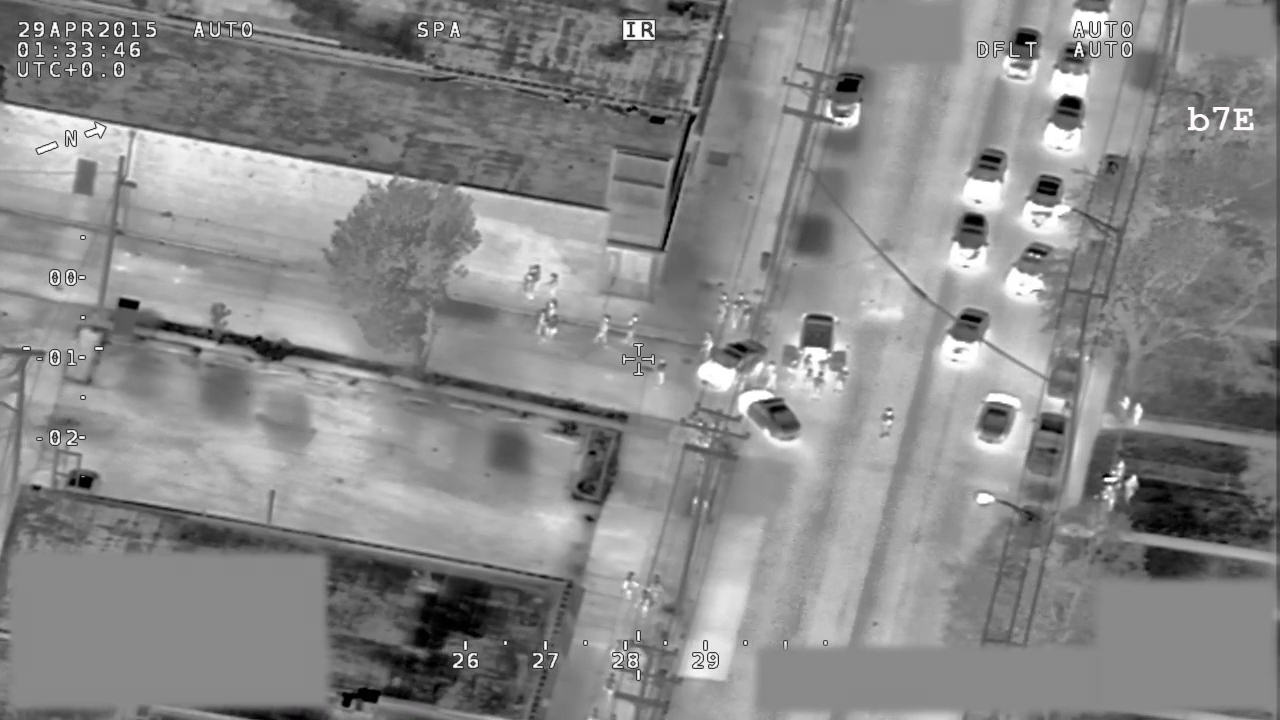vehicle: (777, 308, 852, 385), (692, 336, 771, 388), (736, 389, 804, 442), (971, 390, 1027, 452), (940, 304, 992, 369), (1004, 242, 1058, 303), (1039, 92, 1090, 155), (962, 144, 1010, 210), (1022, 173, 1068, 236), (822, 68, 866, 132), (999, 26, 1048, 83), (1050, 43, 1094, 104), (952, 213, 991, 275), (1065, 1, 1121, 40)
